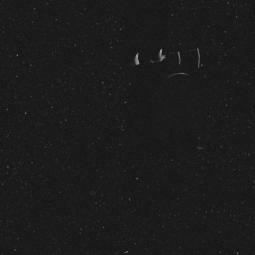proba_3_csc: (121, 20, 224, 130)
